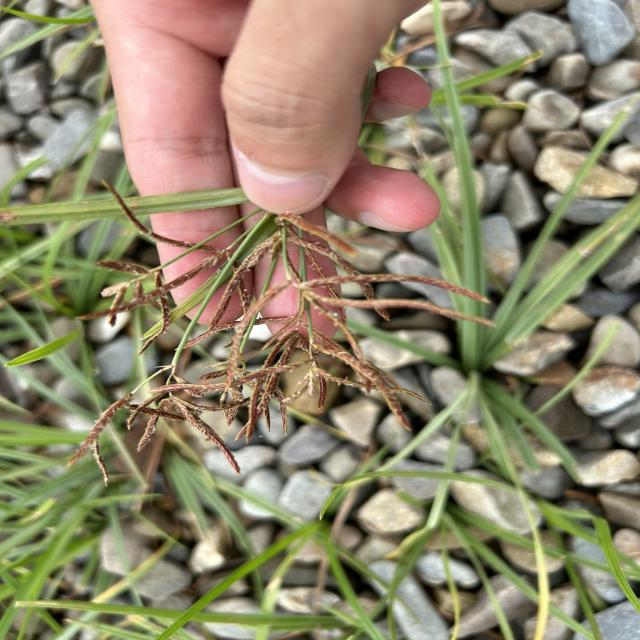cyperus: (56, 198, 497, 502)
